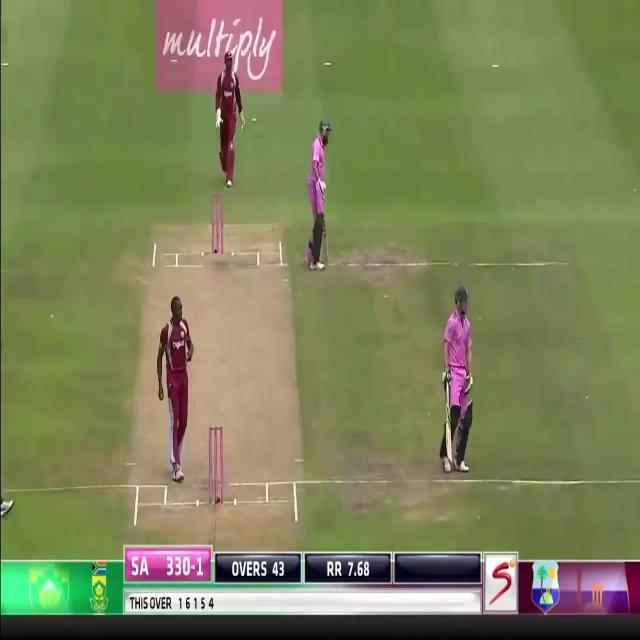Ball: (441, 289, 474, 475), (307, 119, 329, 269)
Fielder: (156, 297, 194, 482), (213, 37, 244, 188)
